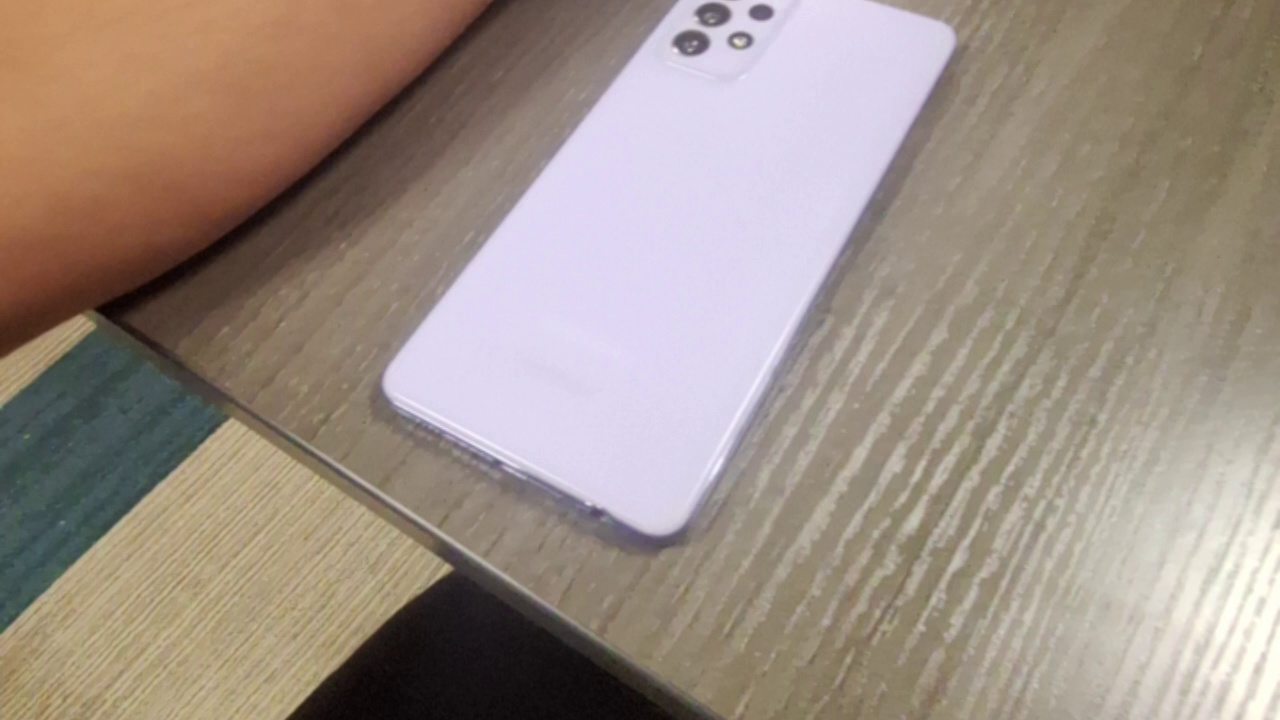celular: (378, 6, 959, 547)
